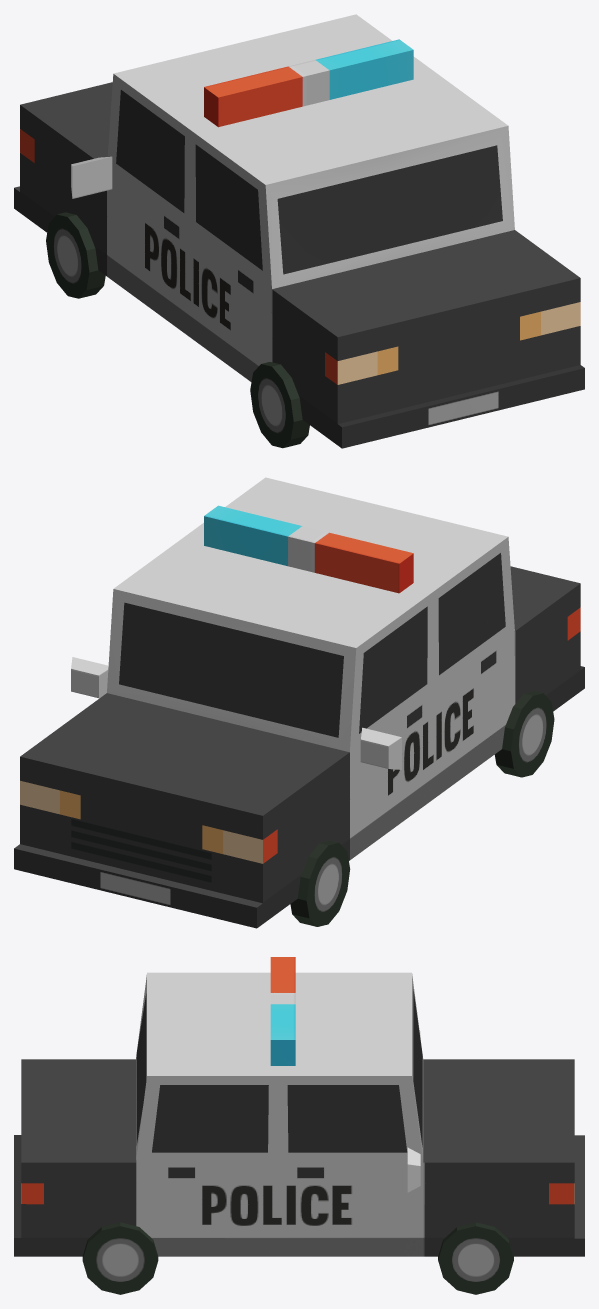
The model's file is cop_mesh.fbx.
The picture shows the model from 3 angles, top to bottom: view 1: azimuth 30°, elevation 25°; view 2: azimuth 150°, elevation 25°; view 3: azimuth 270°, elevation 25°; orthographic projection. The views are drawn at different scales.
Parts seen in each view (by area): view 1: cop_mesh; view 2: cop_mesh; view 3: cop_mesh.
Boxes of the visible parts, x1=… form: cop_mesh: x1=14, y1=14, x2=584, y2=448; cop_mesh: x1=14, y1=477, x2=584, y2=928; cop_mesh: x1=14, y1=957, x2=584, y2=1294.
Size of the model in its own units: 3.33 by 2.67 by 5.74.
